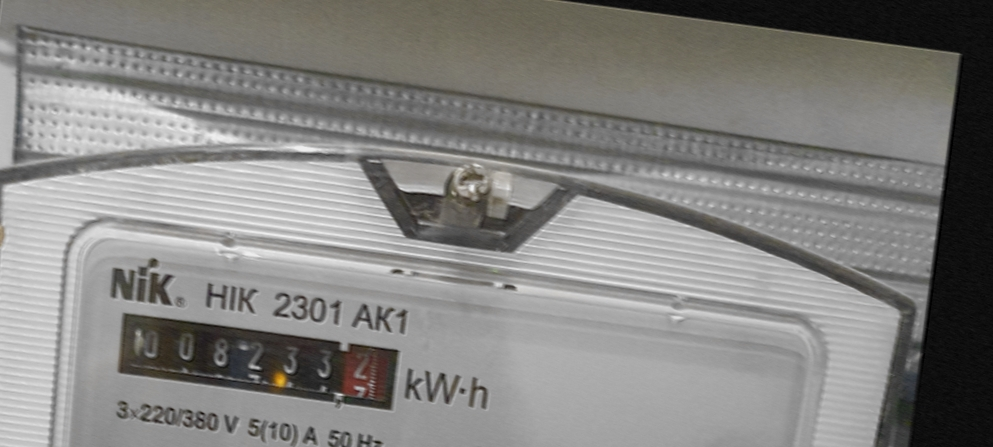0: (139, 325, 163, 359), (175, 328, 197, 361)
2: (243, 337, 267, 372), (351, 347, 372, 381)
3: (280, 341, 301, 375), (315, 345, 336, 378)
8: (210, 333, 231, 367)
screen: (104, 299, 413, 419)
